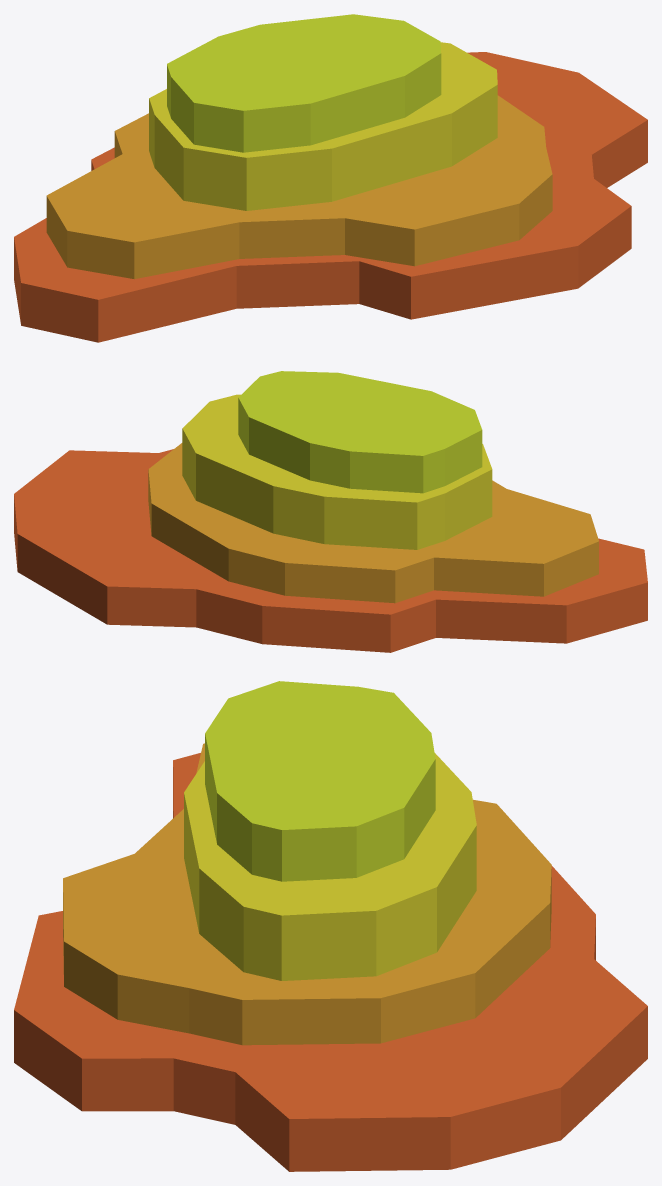
Rendered from Rocher_01.fbx.
The picture shows the model from 3 angles, top to bottom: view 1: azimuth 30°, elevation 25°; view 2: azimuth 150°, elevation 25°; view 3: azimuth 270°, elevation 25°; orthographic projection. The views are drawn at different scales.
Parts seen in each view (by area): view 1: pCube1, pCube2, pCube4, pCube3; view 2: pCube1, pCube2, pCube4, pCube3; view 3: pCube1, pCube2, pCube4, pCube3.
Boxes of the visible parts, box(x1,y1,x2,y2) form: pCube1: box(14, 52, 647, 342); pCube2: box(46, 95, 552, 279); pCube4: box(167, 14, 441, 152); pCube3: box(149, 42, 497, 210); pCube1: box(14, 449, 647, 652); pCube2: box(148, 443, 598, 603); pCube4: box(238, 371, 482, 493); pCube3: box(182, 394, 492, 549); pCube1: box(14, 753, 647, 1171); pCube2: box(63, 743, 551, 1045); pCube4: box(205, 681, 435, 881); pCube3: box(184, 753, 476, 980).
Bounding box in the file's own units: 12162 × 3185 × 8502.
